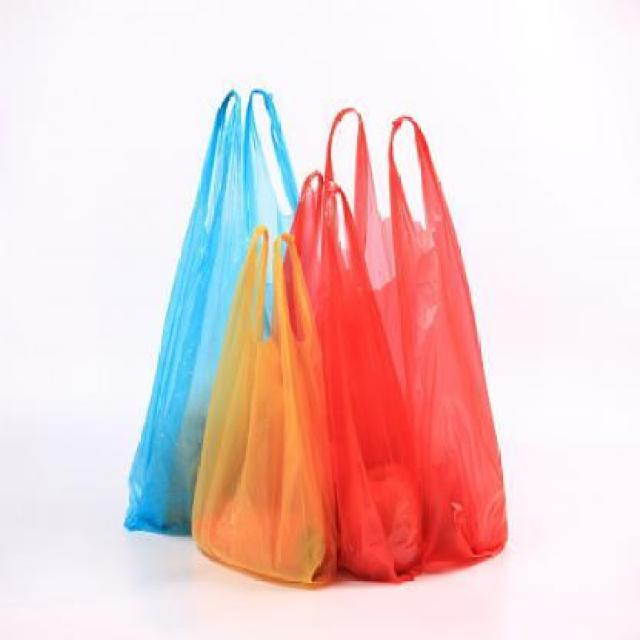plastic bag: (332, 72, 516, 611), (118, 70, 294, 568), (280, 134, 423, 568), (182, 240, 333, 599)
